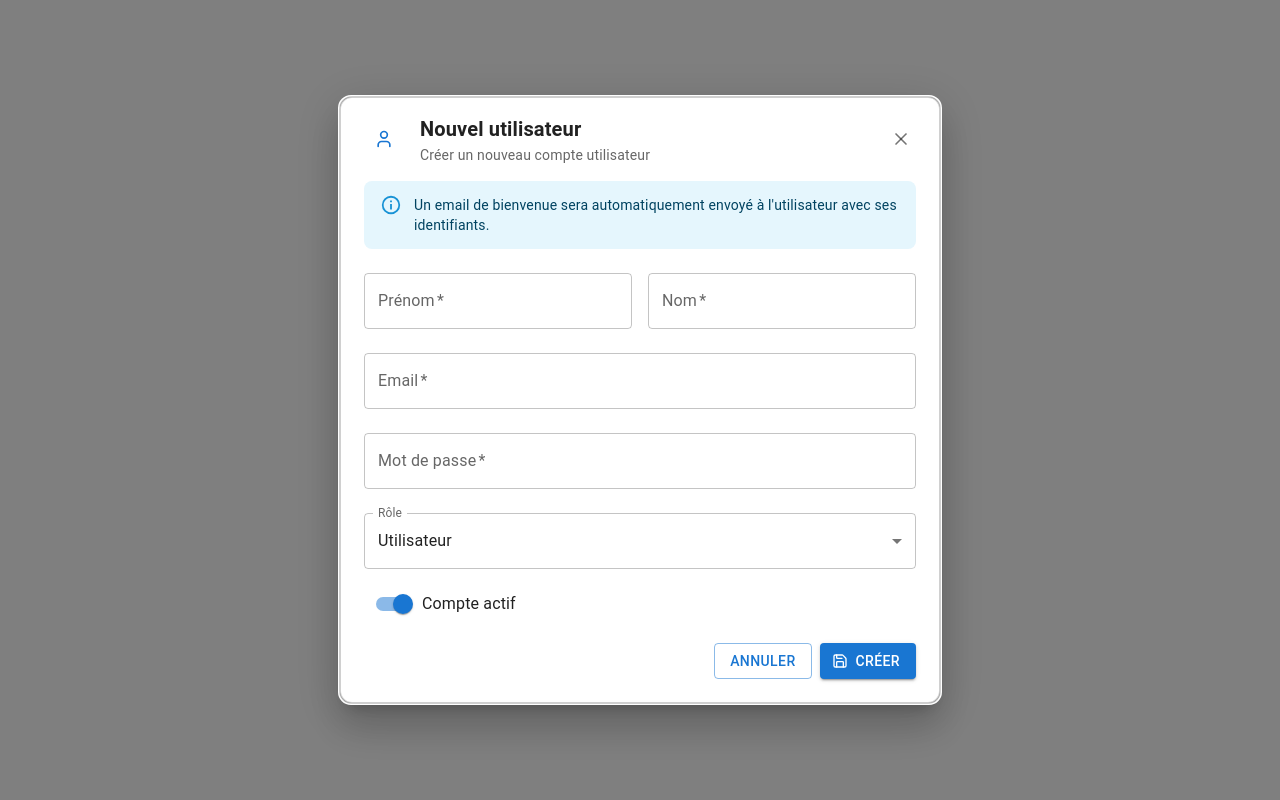
Test: UserModal › affiche l'erreur de mot de passe requis en mode création
The width and height of the screenshot is (1280, 800).
// Remplir prenom, nom, email mais pas le mot de passe
Type "Jean" into the field labelled "Prénom *".
click(498, 301); type("Jean")  # box [364,273,632,329]
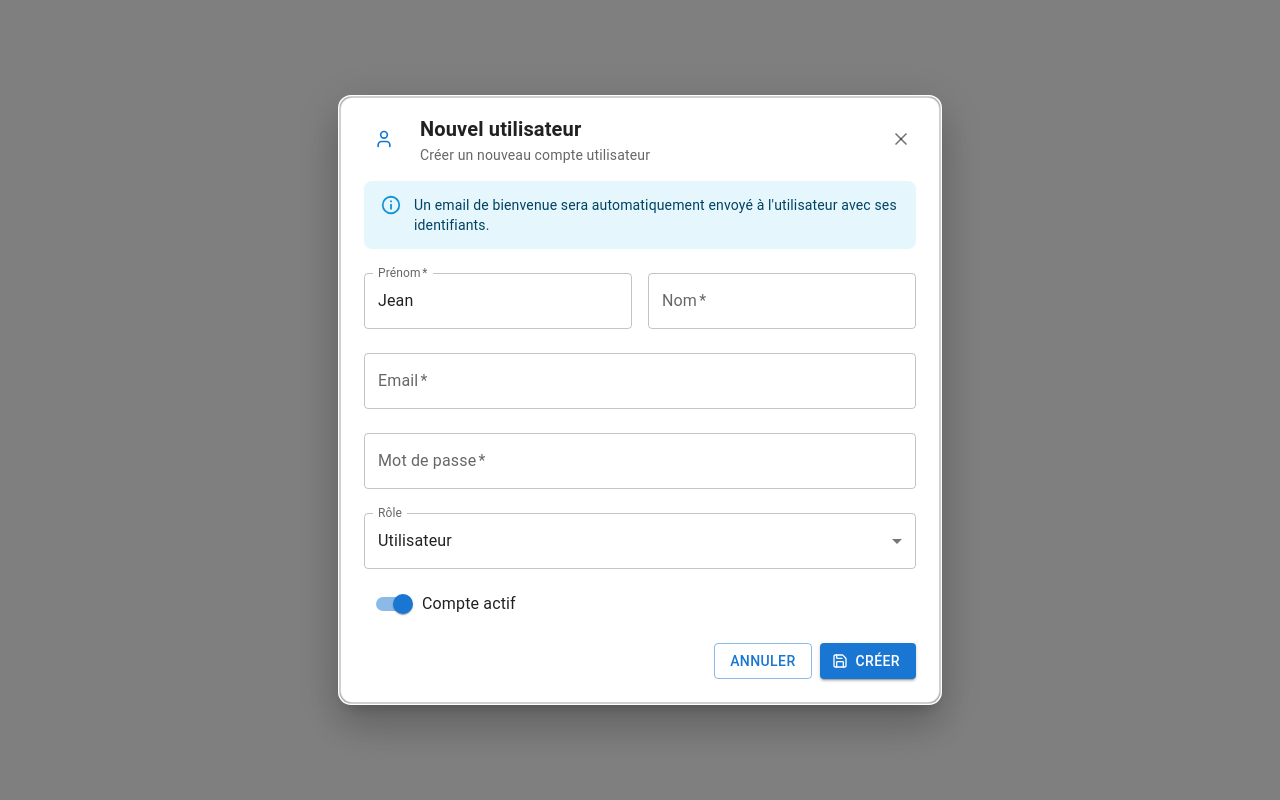
Type "Dupont" into the field labelled "Nom *".
click(782, 301); type("Dupont")  # box [648,273,916,329]
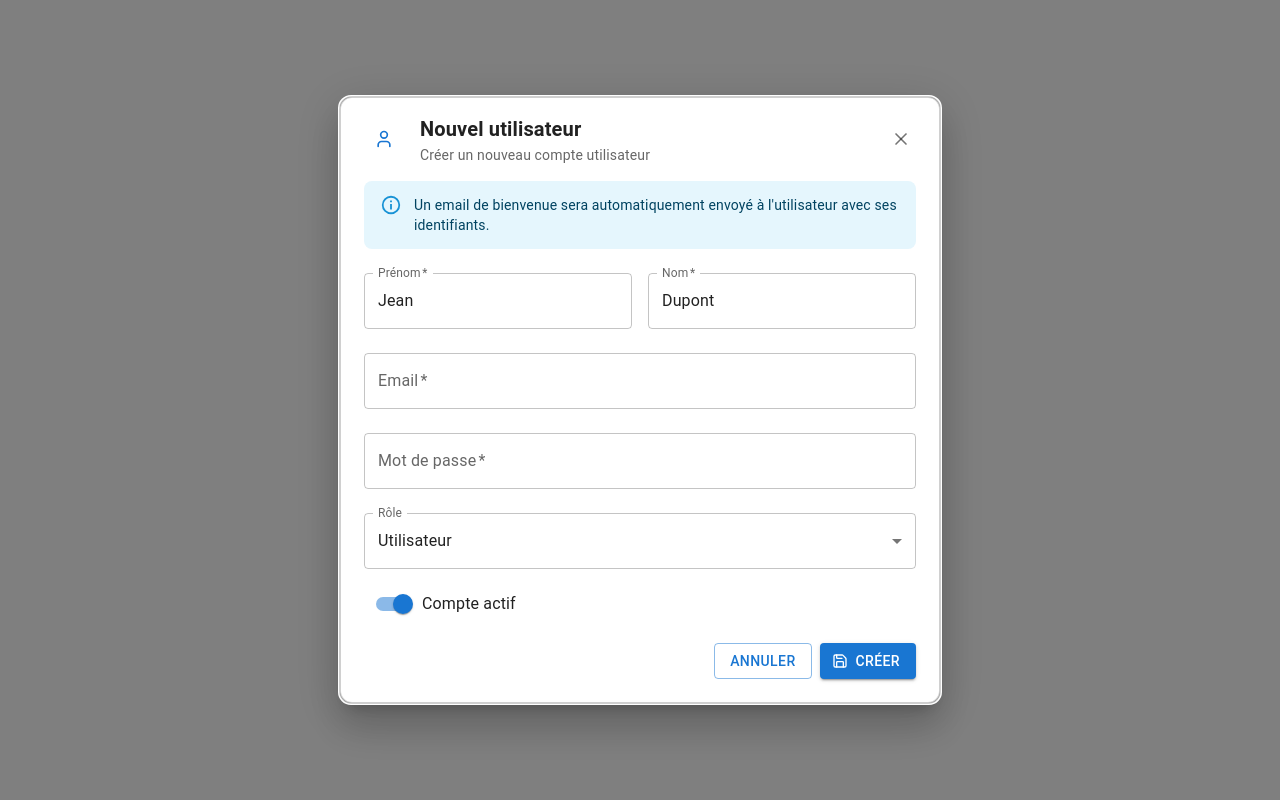
Type "jean@test.com" into the field labelled "Email *".
click(640, 381); type("jean@test.com")  # box [364,353,916,409]
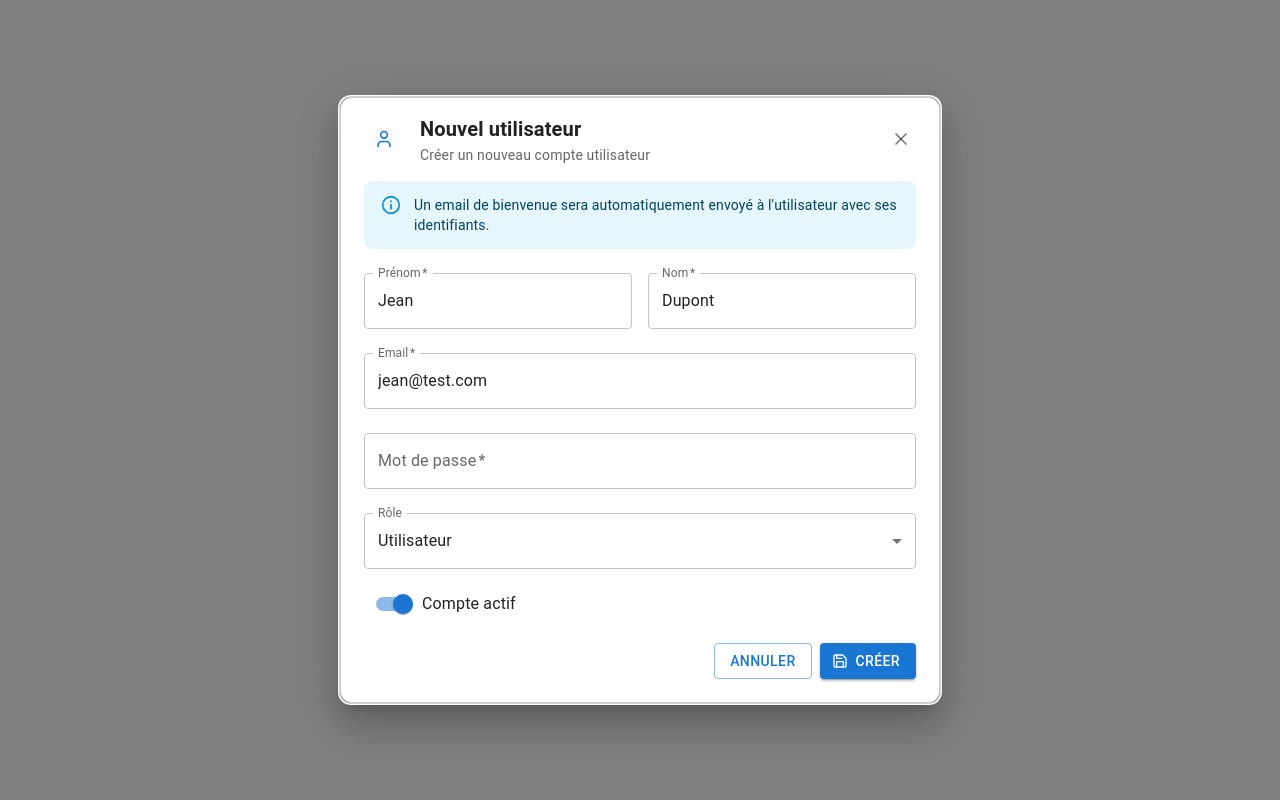
Click the button "Créer".
click(868, 661)  # box [820,643,916,679]
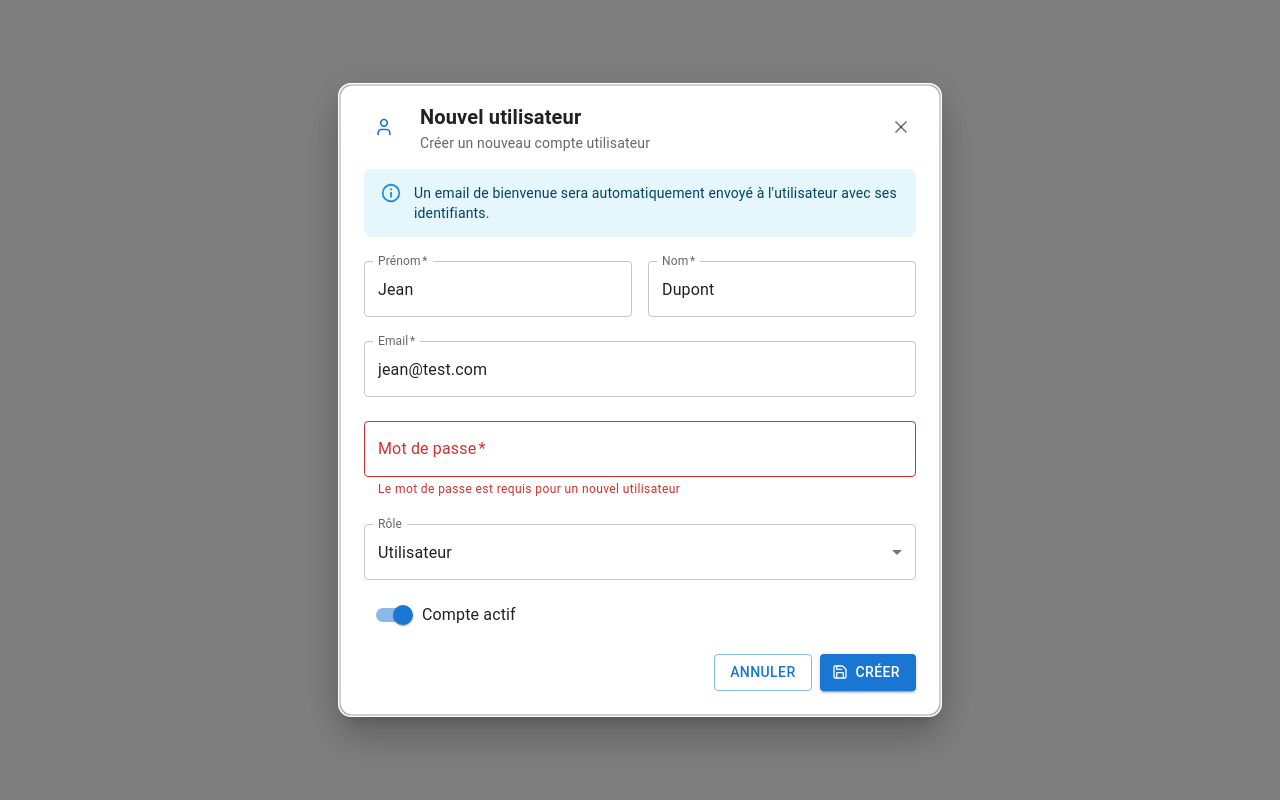
Expected: the text "Le mot de passe est requis pour un nouvel utilisateur" is shown, [378,482,680,496]
